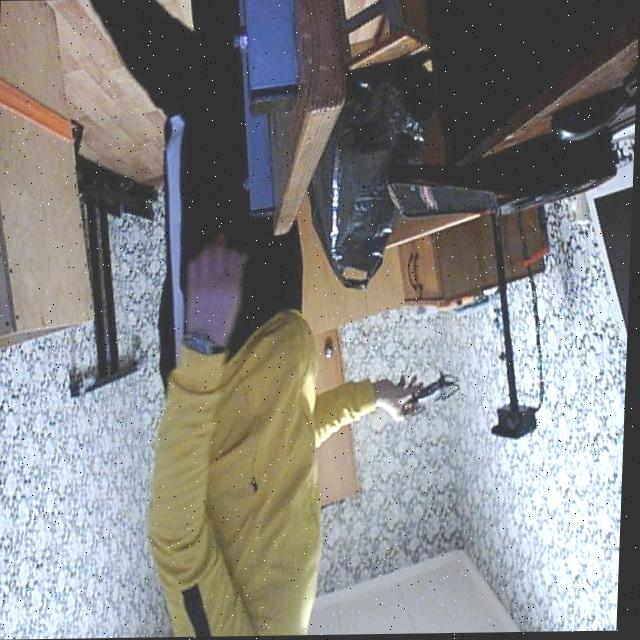drone: (379, 368, 468, 423)
